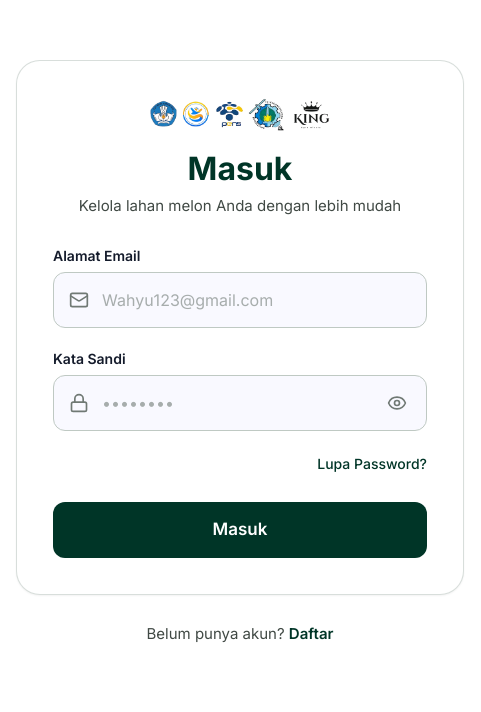
TASK-0218 Login View Single-Session Recovery UI Tests › 1. Renders login form and displays recovery prompt on 409 ACTIVE_SESSION_EXISTS
The width and height of the screenshot is (481, 712).
Type "user@example.com" into the field labelled "Alamat Email" at (240, 300), box [53,272,427,328]
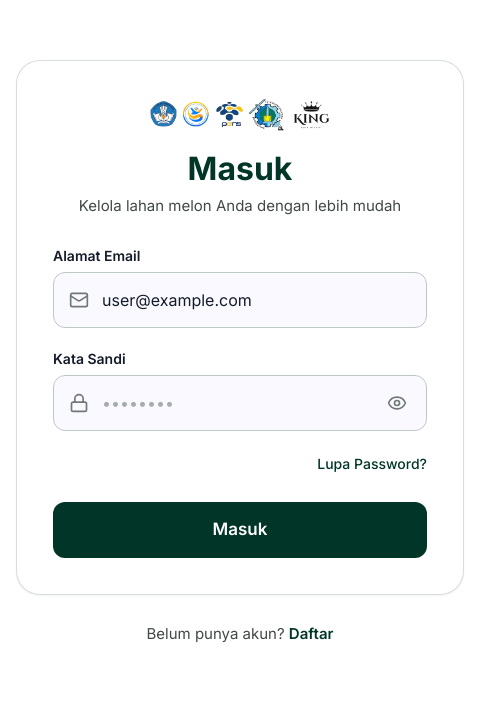
Type "ValidPassword123!" into the password field labelled "Kata Sandi" at (240, 402), box [53,374,427,430]
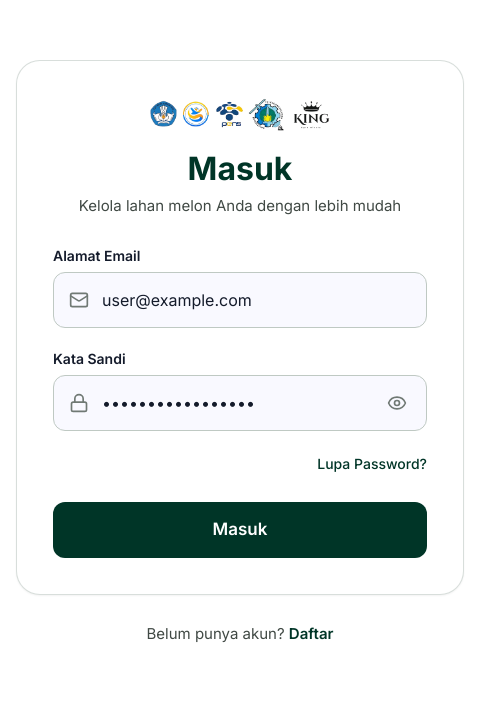
Click the button "Masuk" at (240, 530), box [53,502,427,558]
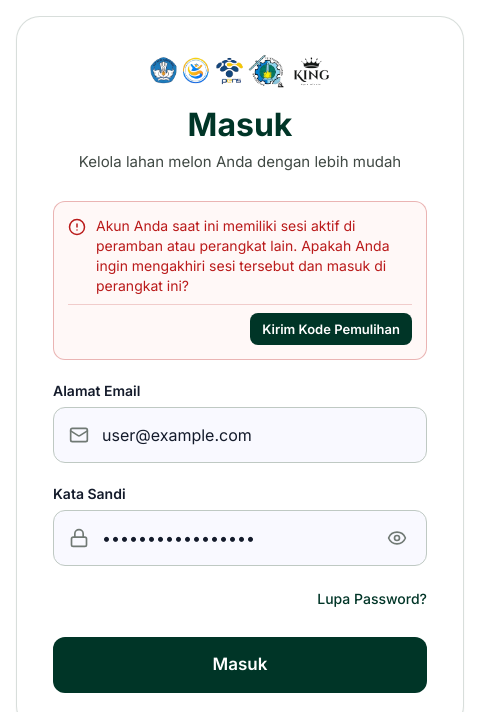
expect the button "Kirim Kode Pemulihan" is shown: met, box [250,313,412,345]
